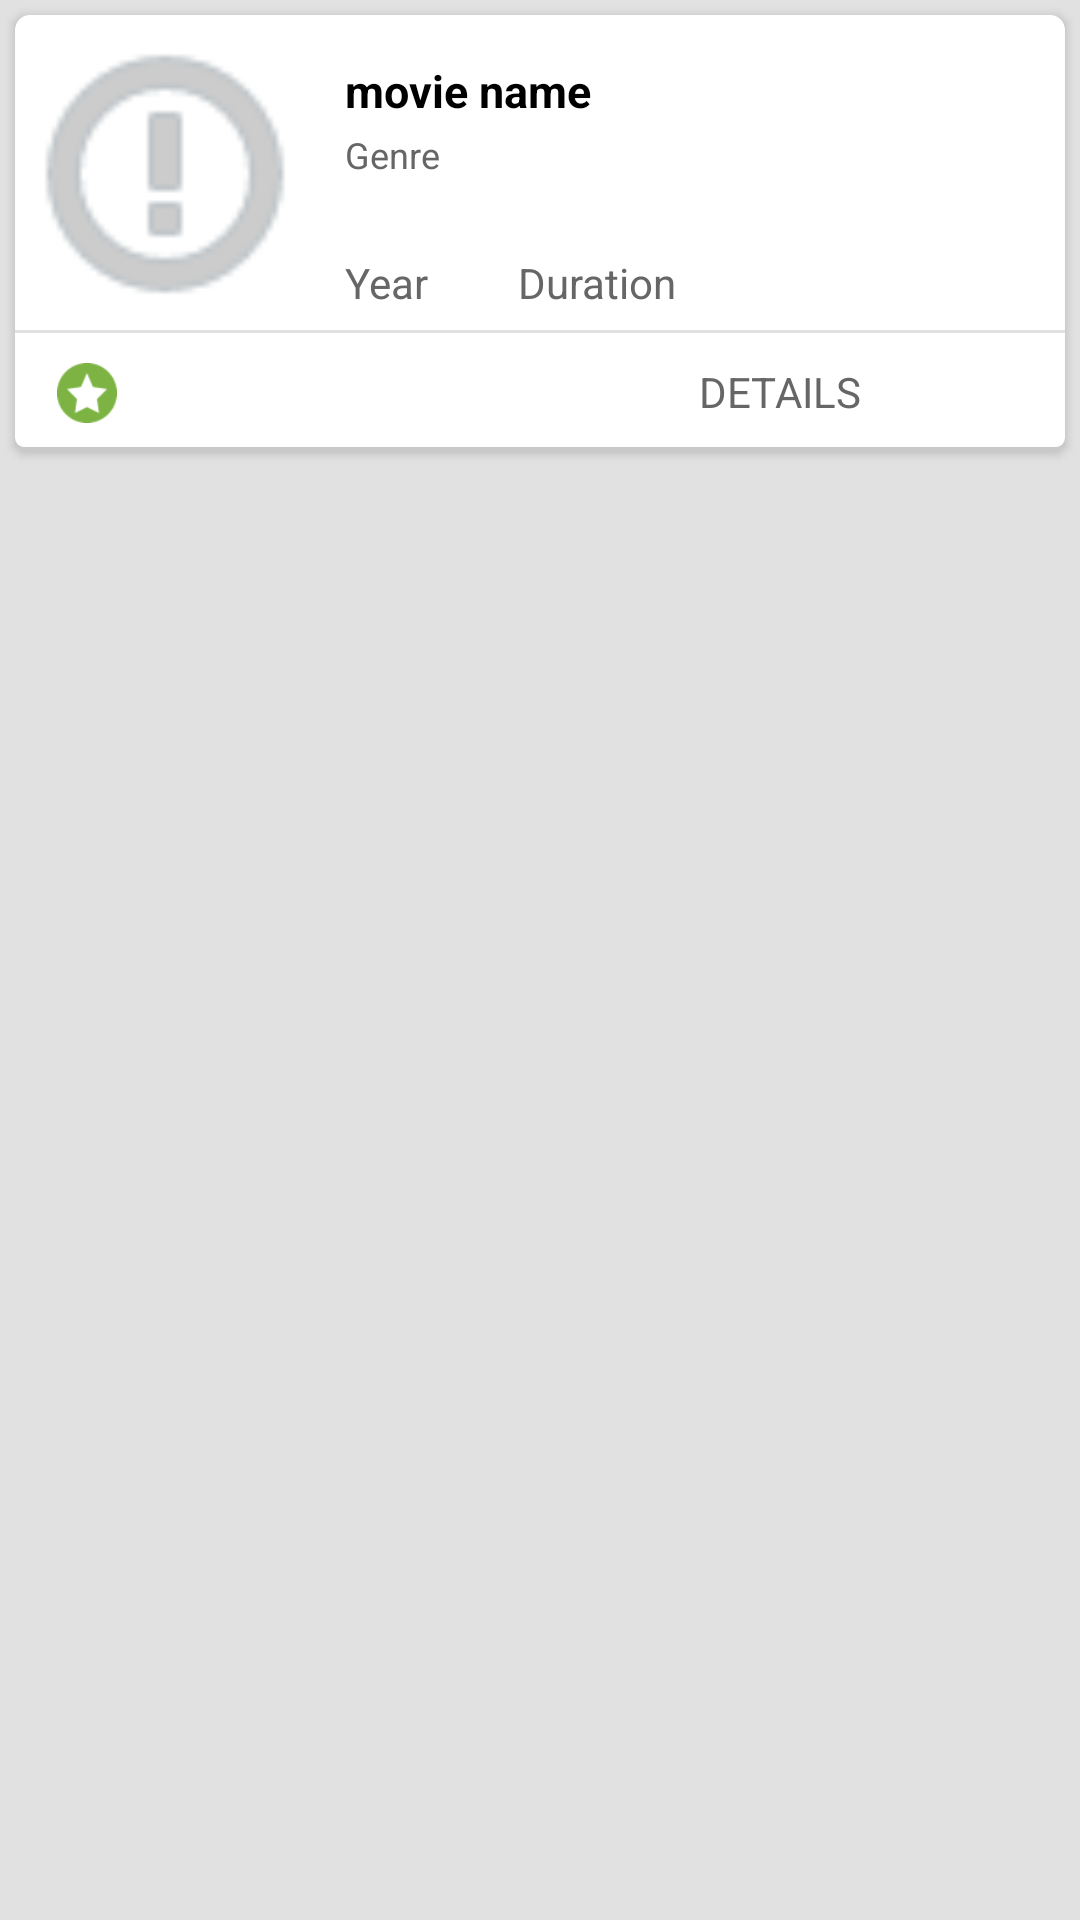

Point at icon controls on the screen. Image size 1080×1920, points as [x,y].
attention: [165,174]
rating: [87,393]
